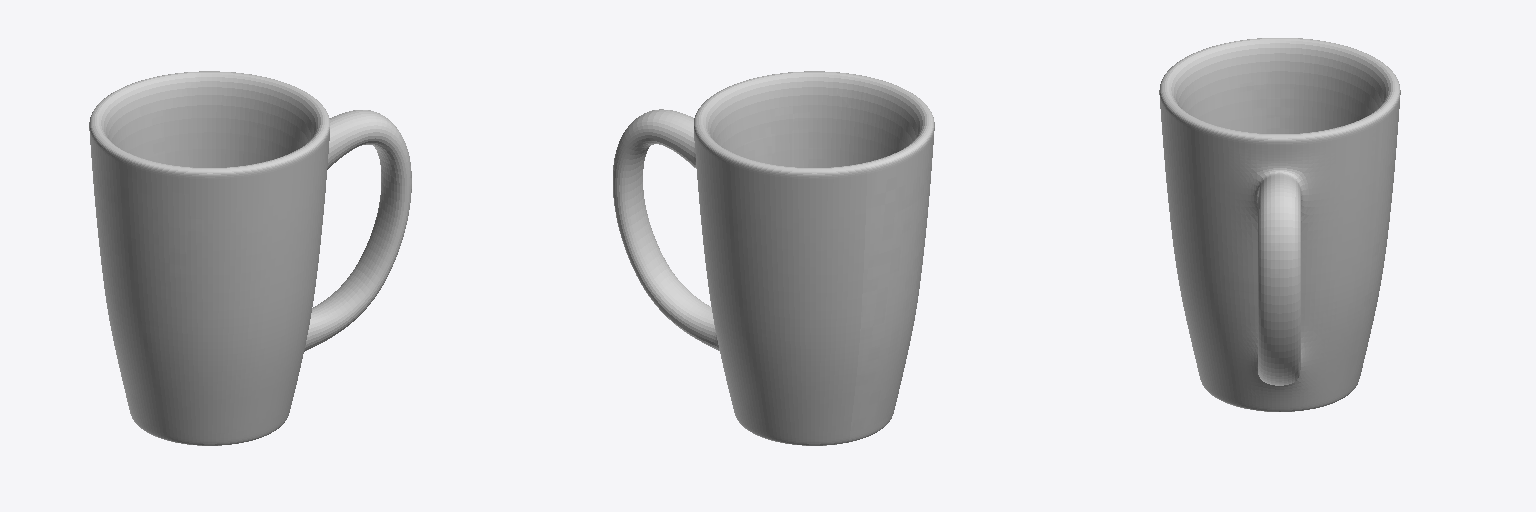
The picture shows the model from 3 angles: view 1: azimuth 30°, elevation 25°; view 2: azimuth 150°, elevation 25°; view 3: azimuth 270°, elevation 25°; orthographic projection.
Bounding box in the file's own units: 2.8 × 2.61 × 1.94.
Materials: 1 (1 with a texture image).